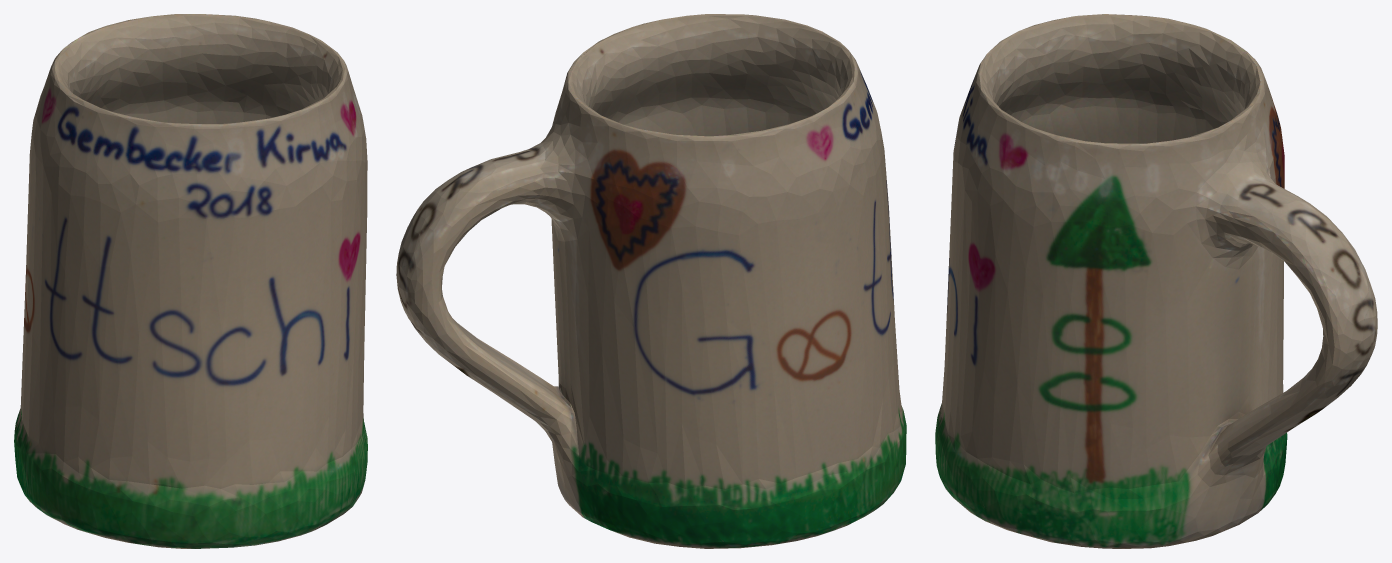
The picture shows the model from 3 angles, left to right: view 1: azimuth 30°, elevation 25°; view 2: azimuth 150°, elevation 25°; view 3: azimuth 270°, elevation 25°; orthographic projection.
Visible parts, largest first — view 1: Krug Baum_4k_2k; view 2: Krug Baum_4k_2k; view 3: Krug Baum_4k_2k.
Part boxes in pixels (x1,y1,x2,y2): Krug Baum_4k_2k: [14, 14, 367, 548]; Krug Baum_4k_2k: [396, 14, 906, 548]; Krug Baum_4k_2k: [935, 14, 1377, 548].
Bounding box in the file's own units: 0.1206 × 0.1296 × 0.1255.
Materials: 1 (1 with a texture image).
